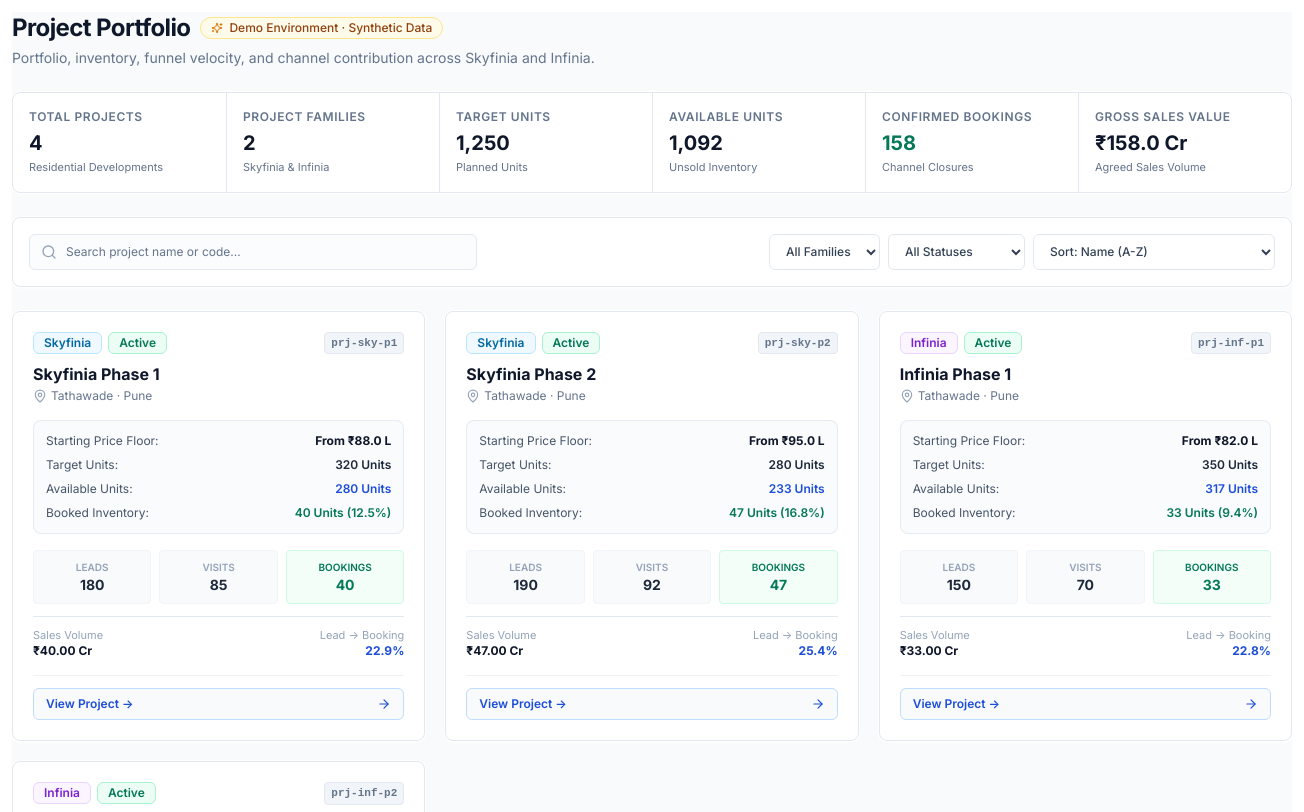
it: ProjectsDirectoryView Component › navigates to project detail when View Project button is clicked
Click the button with test id "view-project-prj-sky-p1-btn" at (90, 704), box [33,688,404,720]
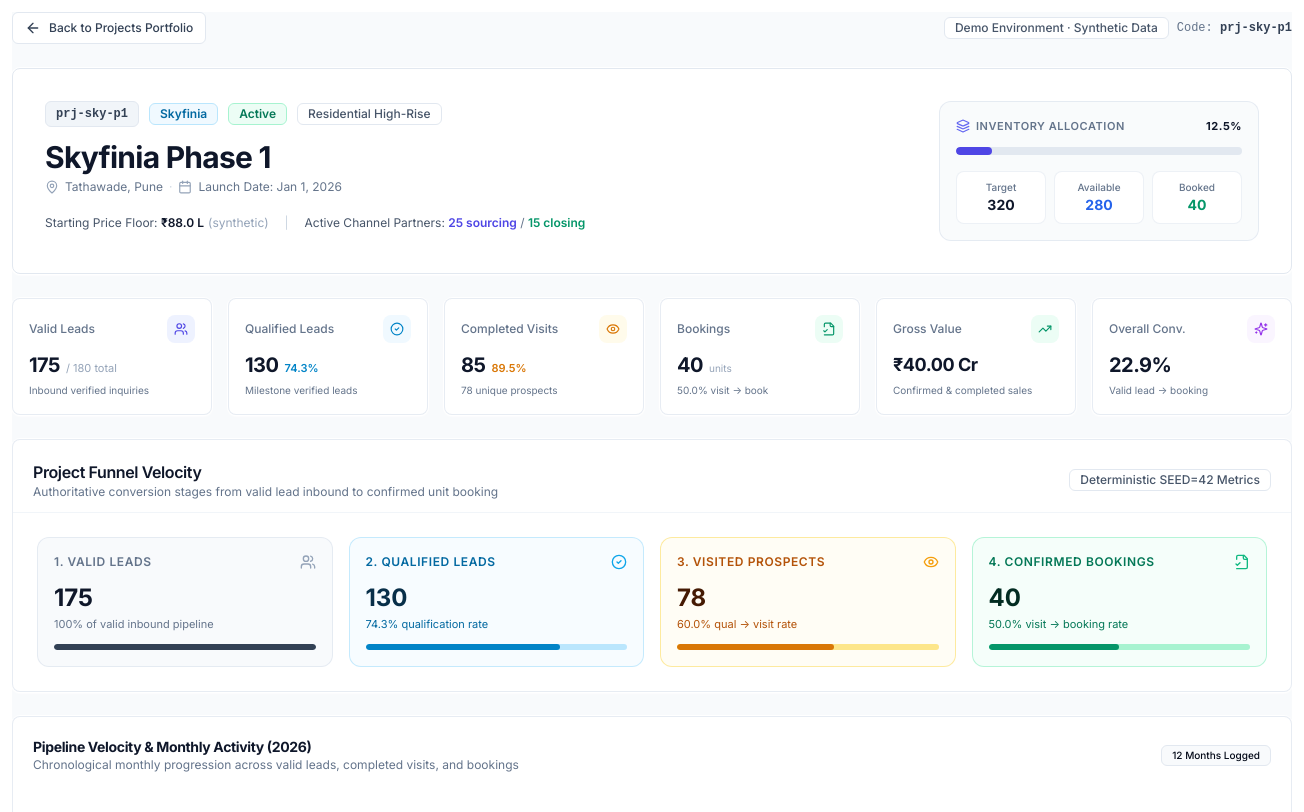
expect the button with test id "back-to-projects-btn" is shown: met, box [12,12,206,44]
